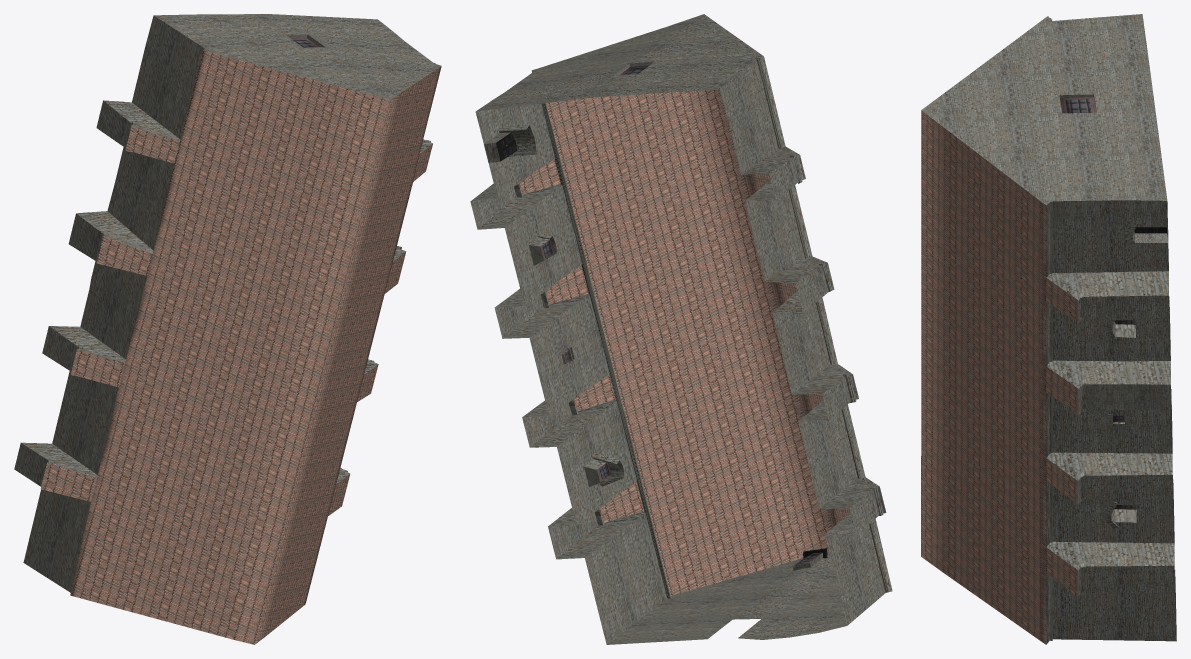
Rendered from uus_37.obj.
3 views of the same model, side by side, from view 1: azimuth 30°, elevation 25°; view 2: azimuth 150°, elevation 25°; view 3: azimuth 270°, elevation 25° (orthographic). The views are drawn at different scales.
Parts seen in each view (by area): view 1: polySurface44; view 2: polySurface44; view 3: polySurface44.
Part boxes in pixels (left/top/right/bottom): polySurface44: left=14, top=14, right=441, bottom=644; polySurface44: left=470, top=14, right=892, bottom=644; polySurface44: left=921, top=14, right=1176, bottom=644.
Bounding box in the file's own units: 19.9 × 28.3 × 11.3.
